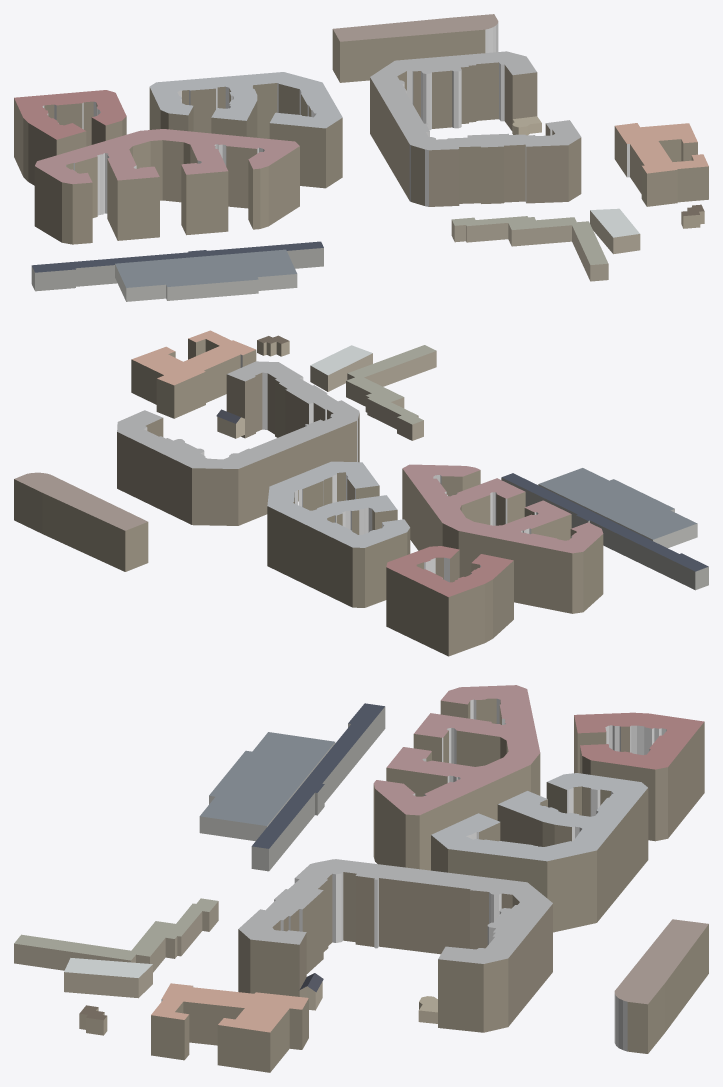
3 renders of one model, top to bottom at view 1: azimuth 30°, elevation 25°; view 2: azimuth 150°, elevation 25°; view 3: azimuth 270°, elevation 25°, orthographic. The views are drawn at different scales.
Parts seen in each view (by area): view 1: tuile; view 2: tuile; view 3: tuile.
Boxes of the visible parts, left/top/right/bottom form: tuile: left=14, top=14, right=708, bottom=301; tuile: left=14, top=330, right=708, bottom=656; tuile: left=14, top=685, right=708, bottom=1072.
Size of the model in its own units: 308 by 32.07 by 249.
